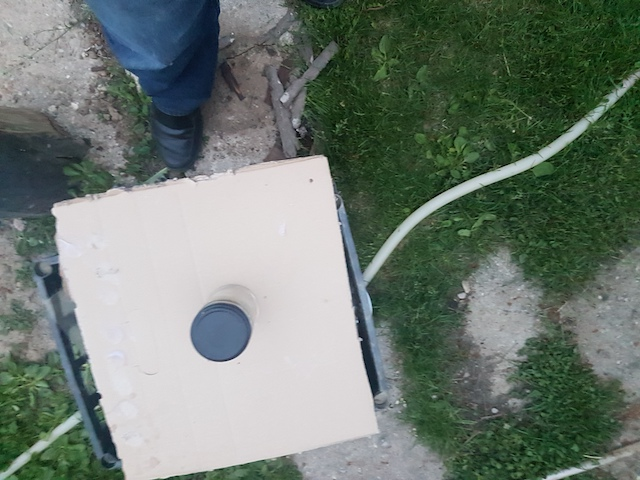recipient: (189, 301, 254, 364)
